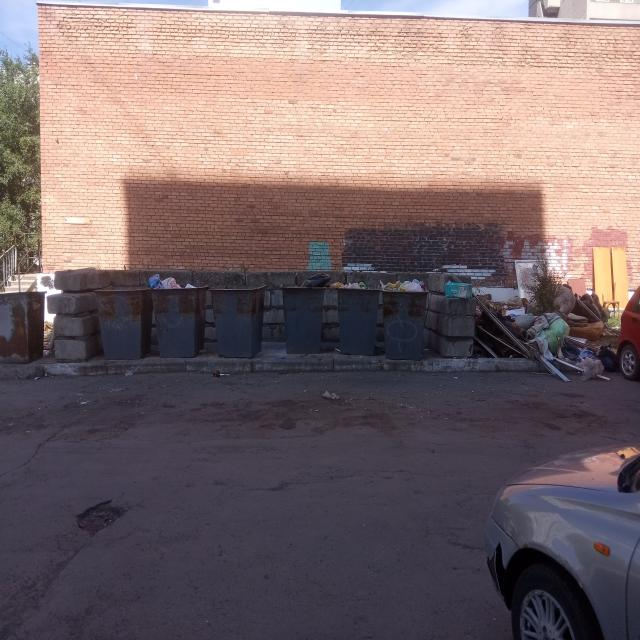bin: (94, 284, 150, 359), (210, 287, 267, 358), (151, 288, 206, 357), (279, 283, 326, 355), (0, 289, 44, 364), (336, 288, 380, 357), (383, 292, 426, 360)
plastic: (475, 245, 629, 386), (148, 273, 198, 288), (378, 278, 431, 292), (443, 281, 474, 299), (331, 281, 368, 290)
